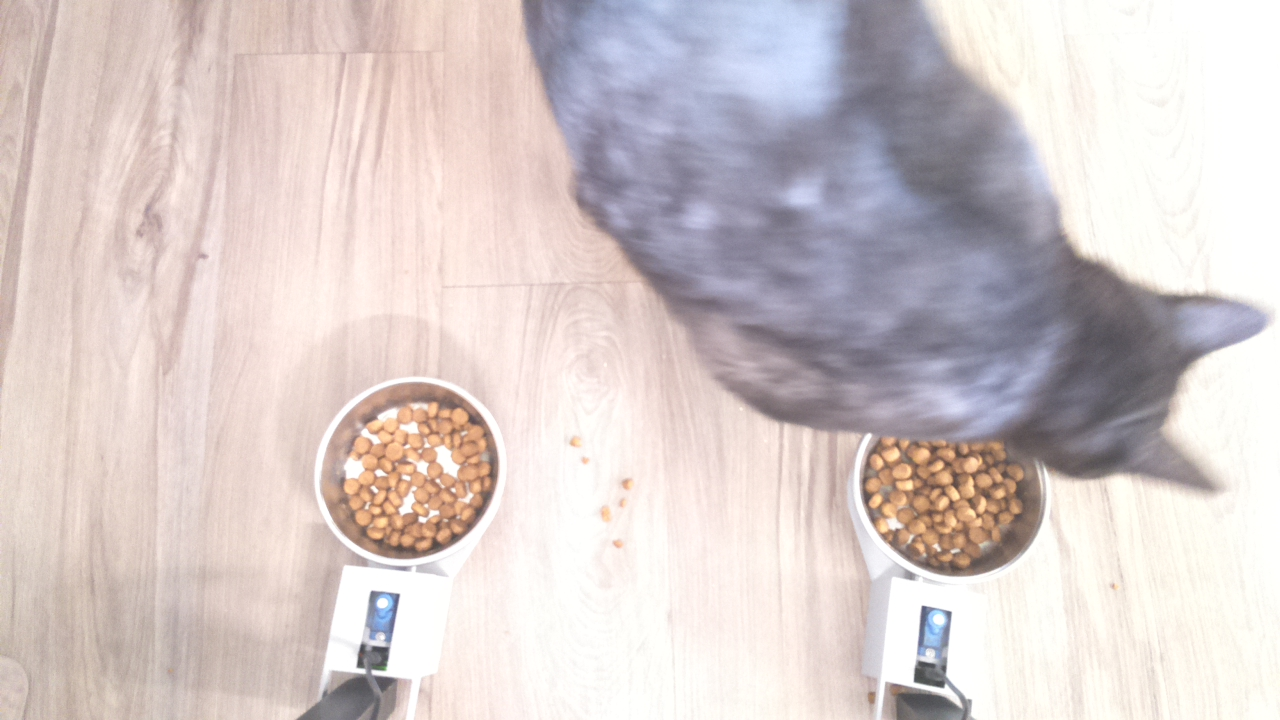open_bowl: (313, 371, 509, 565), (851, 433, 1054, 584)
saki: (980, 233, 1273, 509)
